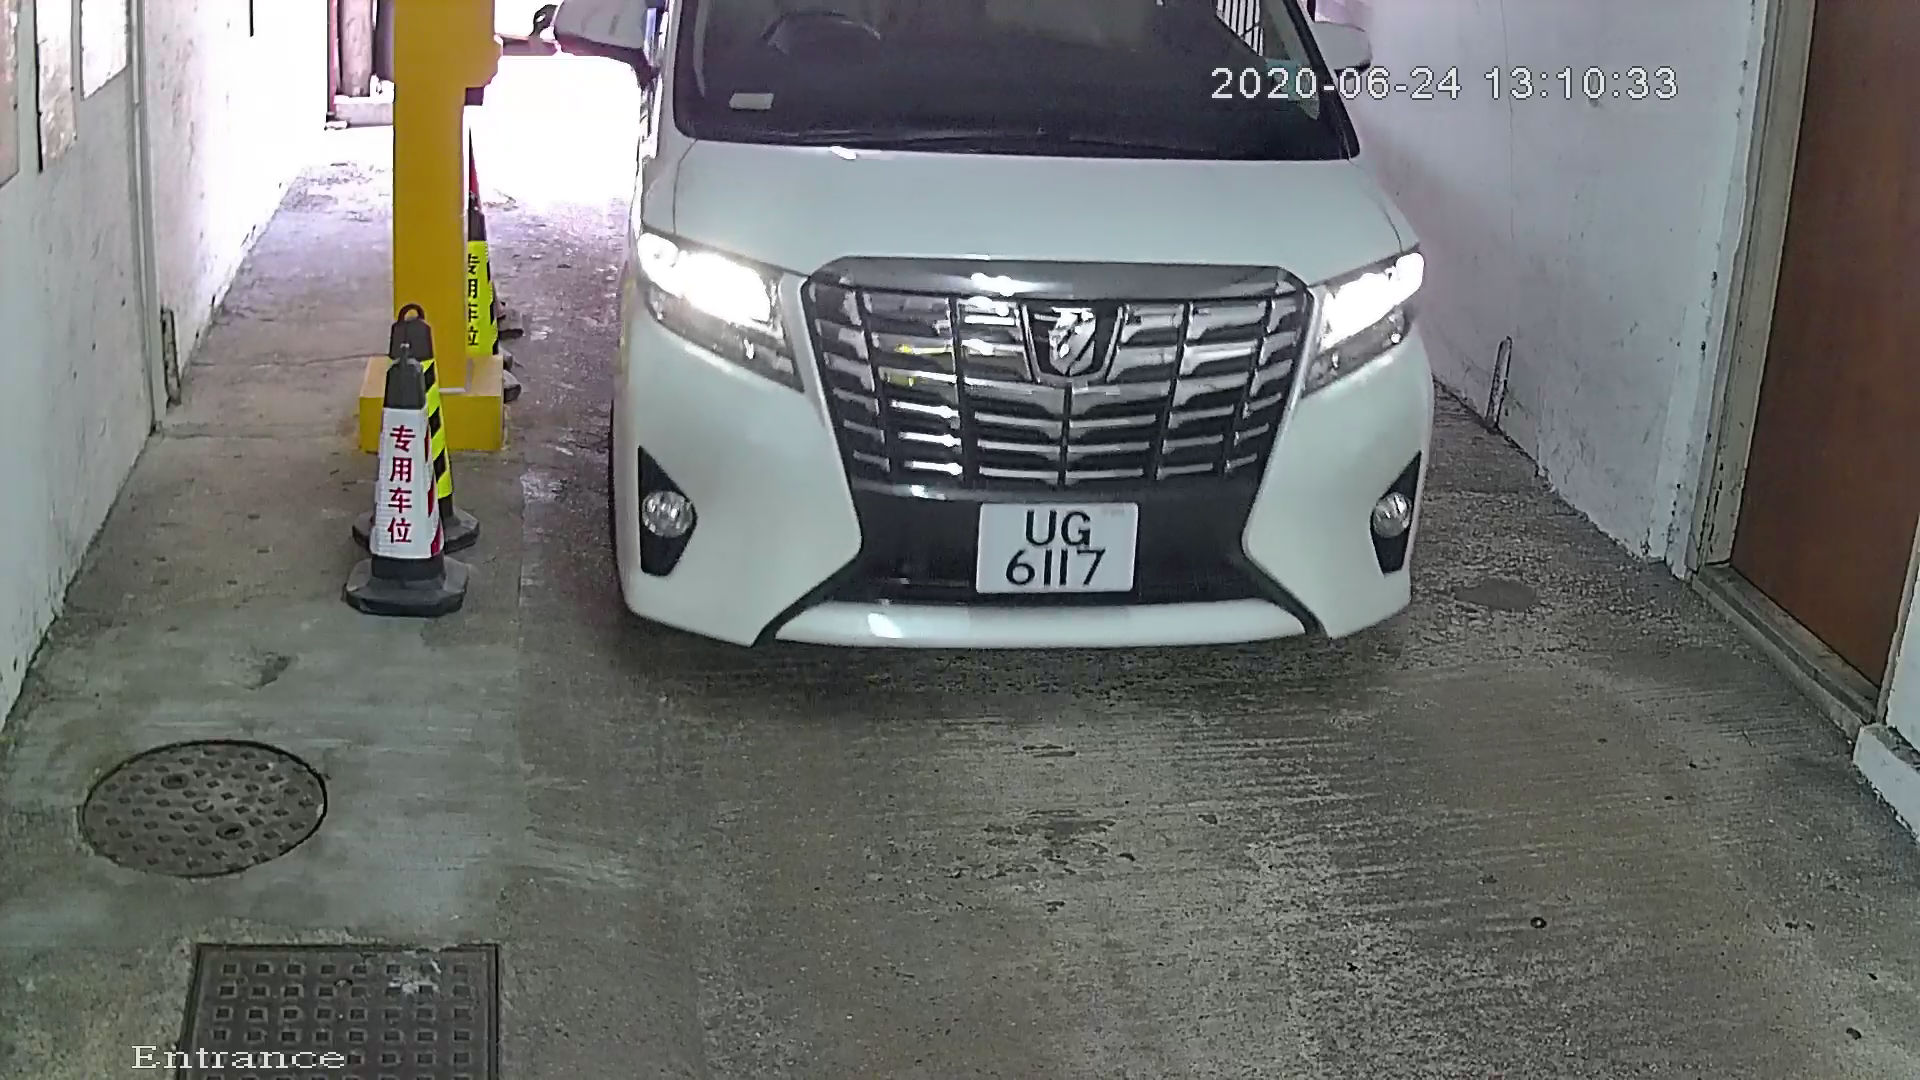Car: (500, 1, 1470, 722)
License Plate: (959, 481, 1170, 613)
